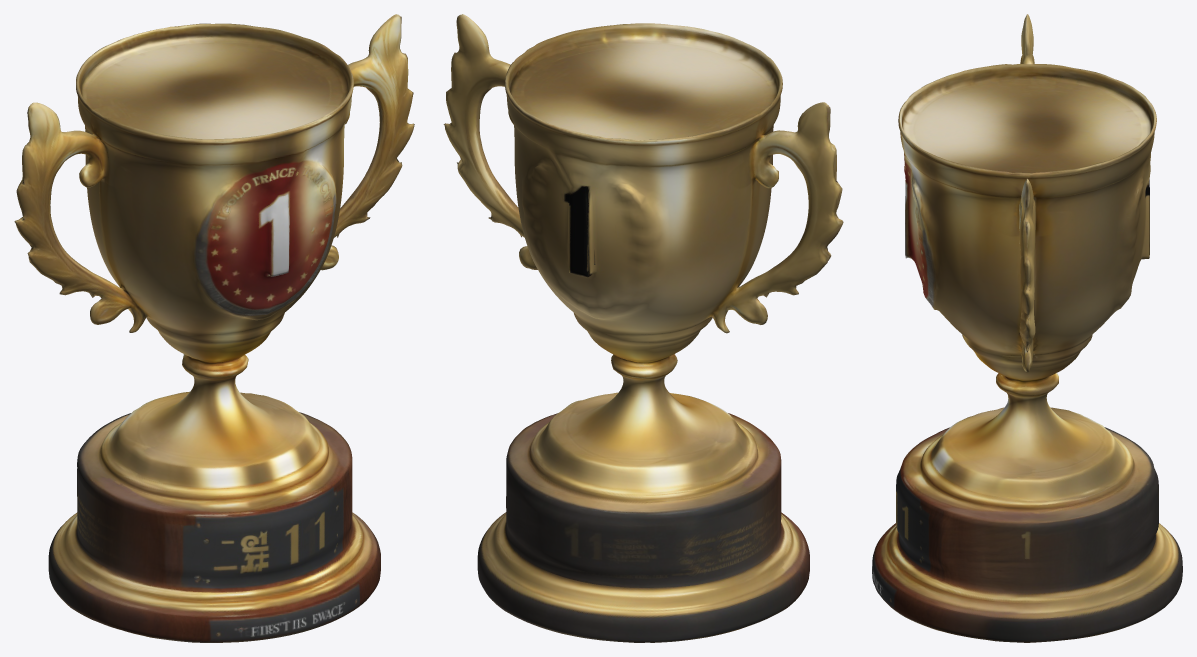
The model's file is First_place_gold.glb.
The picture shows the model from 3 angles, left to right: view 1: azimuth 30°, elevation 25°; view 2: azimuth 150°, elevation 25°; view 3: azimuth 270°, elevation 25°; orthographic projection. The views are drawn at different scales.
Bounding box in the file's own units: 1.63 × 2 × 1.17.
1 material, 1 textured.
